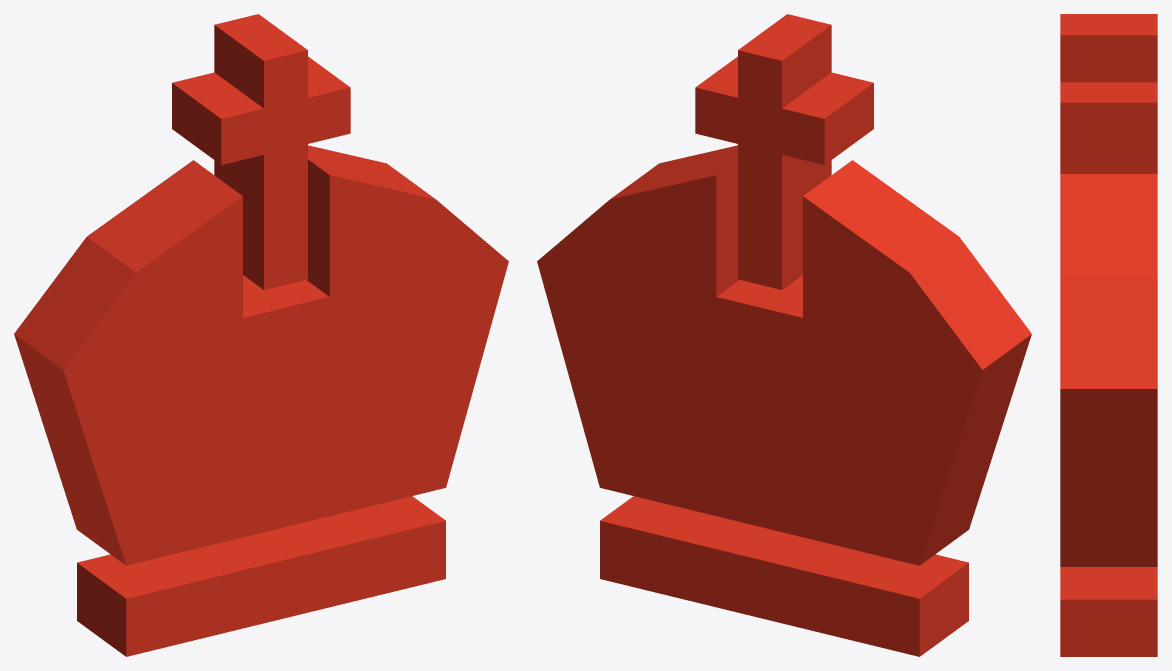
File: Icon_Crown_03.fbx
3 views of the same model, side by side, from view 1: azimuth 30°, elevation 25°; view 2: azimuth 150°, elevation 25°; view 3: azimuth 270°, elevation 25° (orthographic).
Parts seen in each view (by area): view 1: Icon_Crown_03; view 2: Icon_Crown_03; view 3: Icon_Crown_03.
Part boxes in pixels (<box>): Icon_Crown_03: <box>14,14,508,656</box>; Icon_Crown_03: <box>537,14,1031,656</box>; Icon_Crown_03: <box>1060,14,1157,656</box>.
Size of the model in its own units: 62.79 by 75.74 by 12.06.
